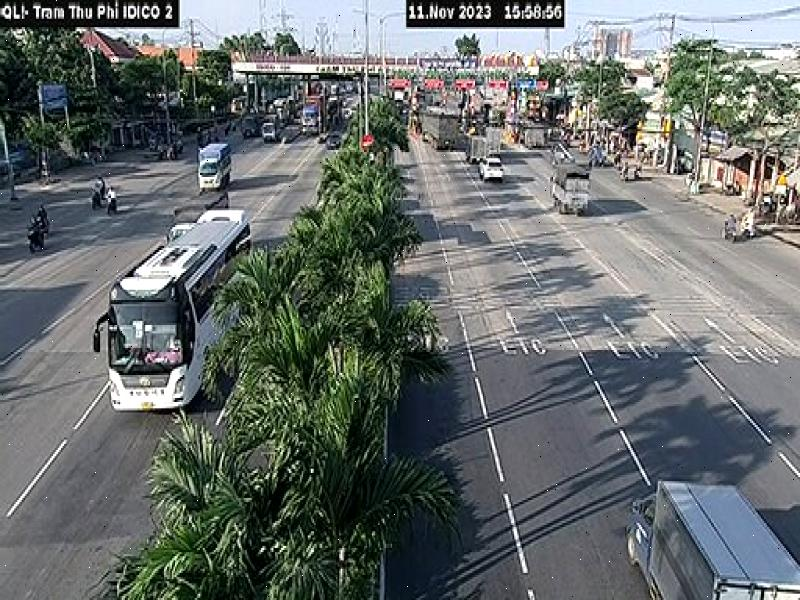bus: (93, 209, 254, 408)
truck: (626, 481, 800, 600), (549, 154, 593, 218), (194, 138, 234, 195)
